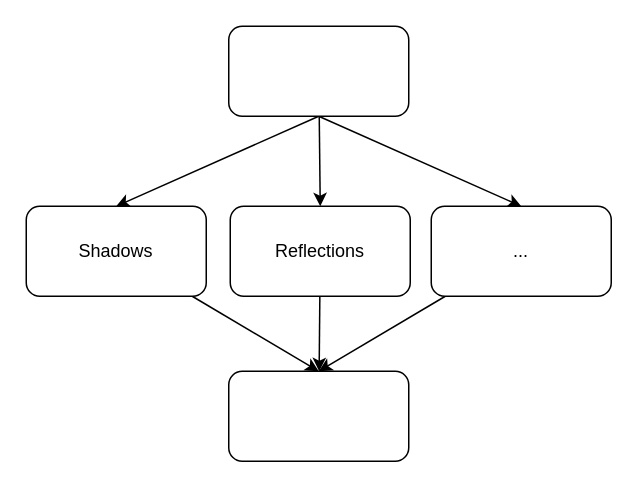
This 638x488 diagram has some shape labels left out. Each missing label, with the centre of its shape:
Composite: pixel 318 415
Gbuffer: pixel 318 70
